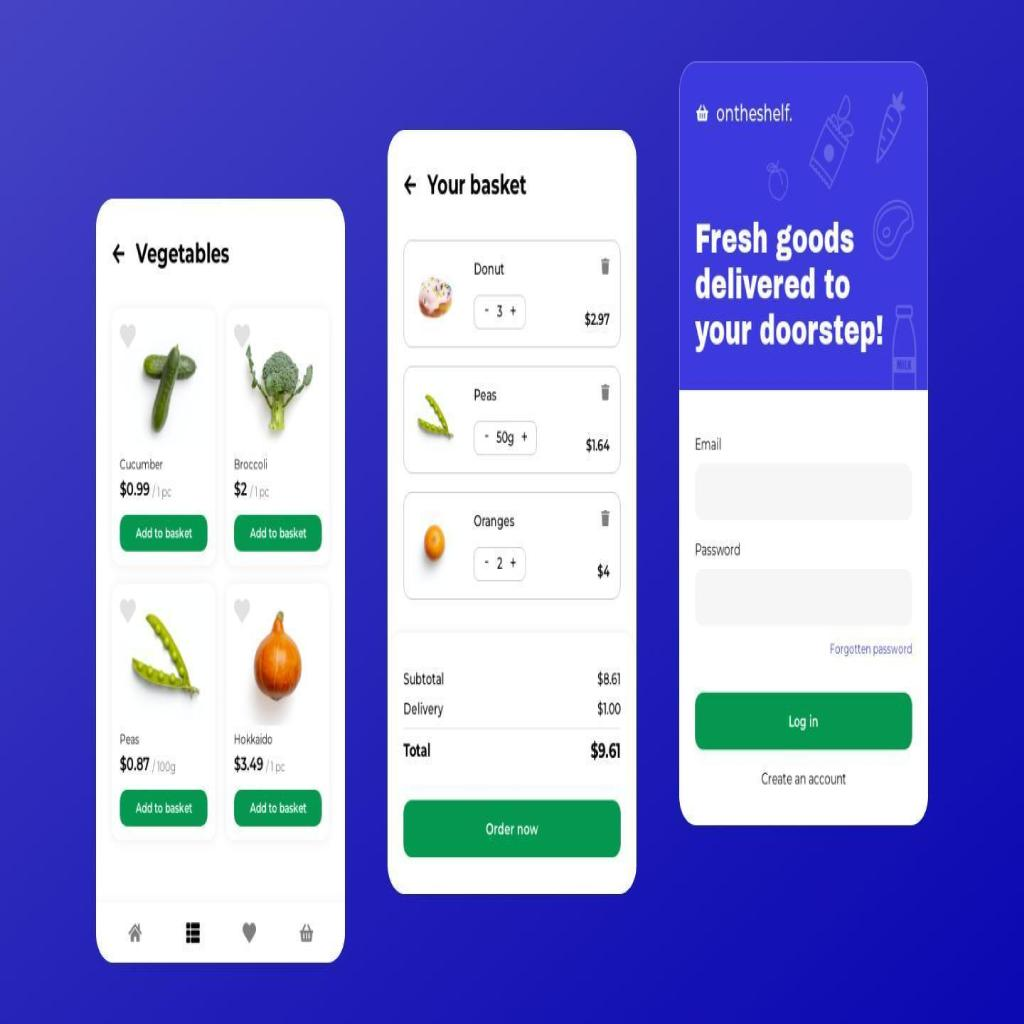button: (692, 688, 915, 752), (403, 797, 623, 857), (117, 514, 210, 555), (119, 785, 210, 826), (232, 512, 324, 550), (232, 788, 323, 826)
icon: (599, 508, 613, 534), (600, 379, 612, 406), (600, 250, 610, 282)
input: (693, 565, 916, 629), (694, 462, 916, 519)
label: (692, 537, 743, 558), (694, 432, 724, 451)
